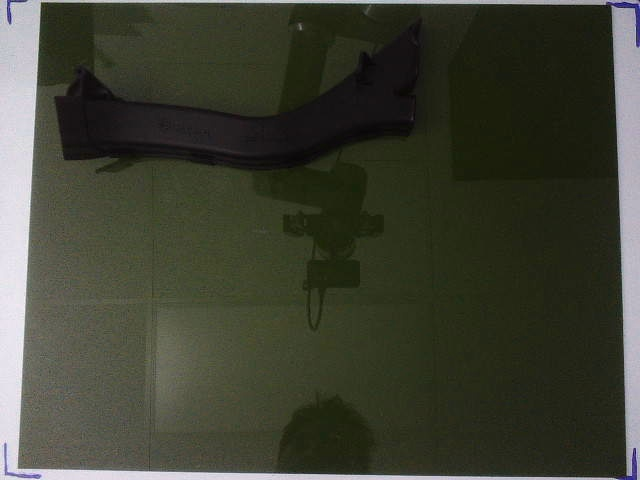887_A-Top: (53, 18, 420, 169)
